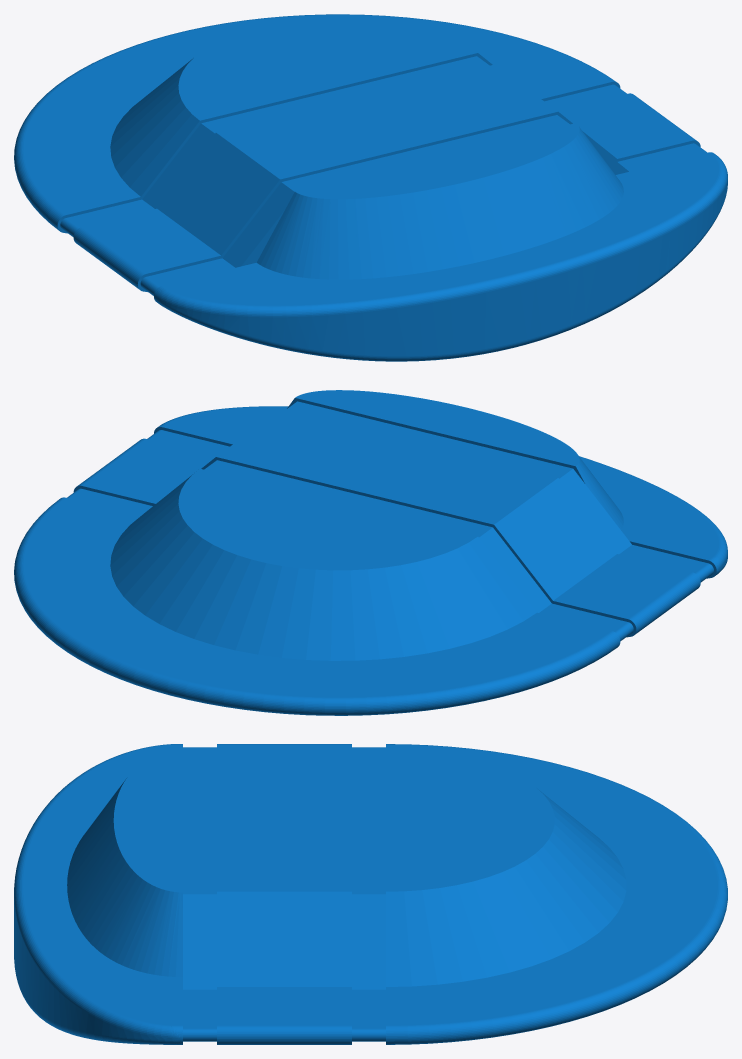
Rendered from tomtom.glb.
3 views of the same model, one above another, from view 1: azimuth 30°, elevation 25°; view 2: azimuth 150°, elevation 25°; view 3: azimuth 270°, elevation 25° (orthographic). The views are drawn at different scales.
Parts seen in each view (by area): view 1: TOMLOUP; view 2: TOMLOUP; view 3: TOMLOUP.
Boxes of the visible parts, x1,y1,x2,y2 form: TOMLOUP: (14,14,727,361); TOMLOUP: (14,390,727,715); TOMLOUP: (14,744,727,1044).
Size of the model in its own units: 13.95 by 3.18 by 14.55.
